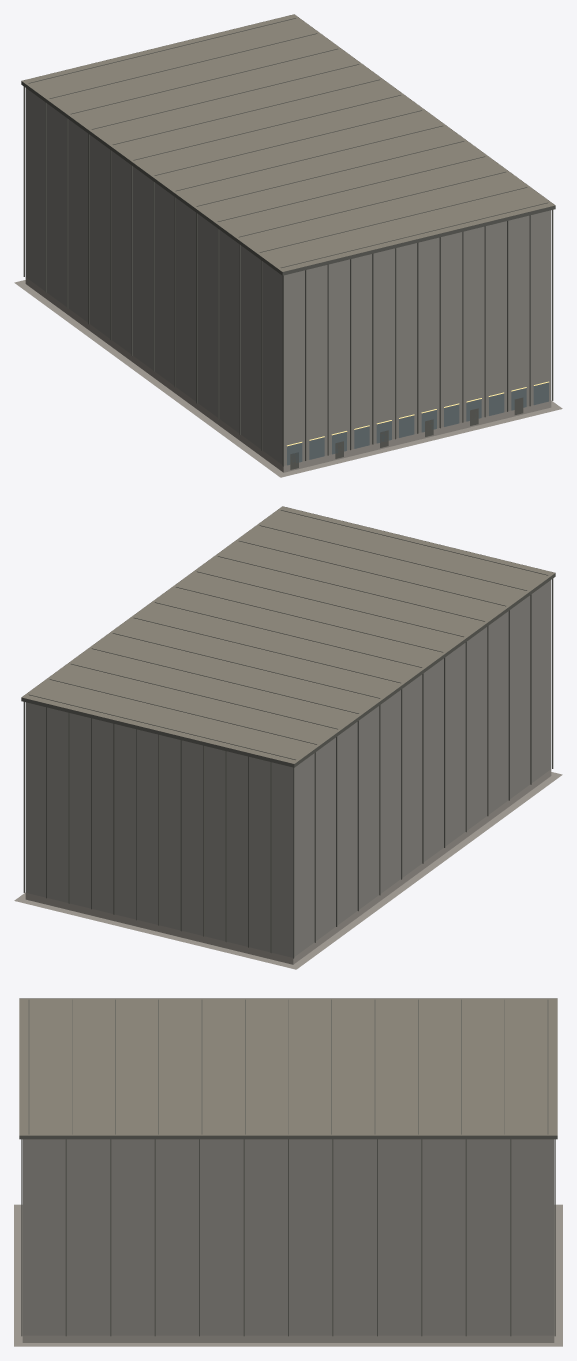
The model's file is shell.glb.
3 renders of one model, top to bottom at view 1: azimuth 30°, elevation 25°; view 2: azimuth 150°, elevation 25°; view 3: azimuth 270°, elevation 25°, orthographic. The views are drawn at different scales.
Visible parts, largest first — view 1: shell_bowl_mass_cladding, shell_roof_canopy, shell_bowl_mass_facade_panels, shell_roof_canopy_fascia, shell_bowl_mass_plinth, shell_field_floor_apron, shell_bowl_mass_suite_glass_lobby, shell_bowl_mass_portal_frames; view 2: shell_bowl_mass_cladding, shell_roof_canopy, shell_bowl_mass_facade_panels, shell_roof_canopy_fascia, shell_bowl_mass_plinth, shell_field_floor_apron; view 3: shell_bowl_mass_cladding, shell_roof_canopy, shell_roof_canopy_fascia, shell_field_floor_apron, shell_bowl_mass_facade_panels, shell_bowl_mass_plinth.
Part boxes in pixels (x1,y1,x2,y2): shell_bowl_mass_cladding: [25, 88, 551, 465]; shell_roof_canopy: [22, 14, 555, 271]; shell_bowl_mass_facade_panels: [23, 86, 553, 466]; shell_roof_canopy_fascia: [21, 15, 555, 275]; shell_bowl_mass_plinth: [25, 277, 551, 472]; shell_field_floor_apron: [14, 280, 562, 477]; shell_bowl_mass_suite_glass_lobby: [287, 382, 548, 465]; shell_bowl_mass_portal_frames: [290, 397, 523, 469]; shell_bowl_mass_cladding: [25, 580, 551, 957]; shell_roof_canopy: [21, 506, 554, 763]; shell_bowl_mass_facade_panels: [23, 578, 553, 958]; shell_roof_canopy_fascia: [21, 507, 555, 767]; shell_bowl_mass_plinth: [25, 769, 551, 964]; shell_field_floor_apron: [14, 772, 562, 969]; shell_bowl_mass_cladding: [22, 1139, 554, 1335]; shell_roof_canopy: [19, 998, 557, 1135]; shell_roof_canopy_fascia: [19, 998, 557, 1139]; shell_field_floor_apron: [14, 1204, 562, 1346]; shell_bowl_mass_facade_panels: [21, 1139, 555, 1336]; shell_bowl_mass_plinth: [22, 1335, 554, 1342].
Bounding box in the file's own units: 50.79 × 34.89 × 83.04.
